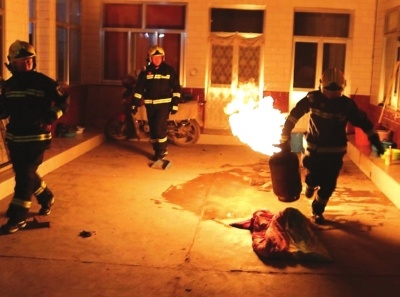fire: (222, 78, 289, 156)
